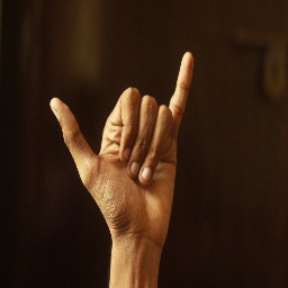J: (43, 46, 204, 228)
